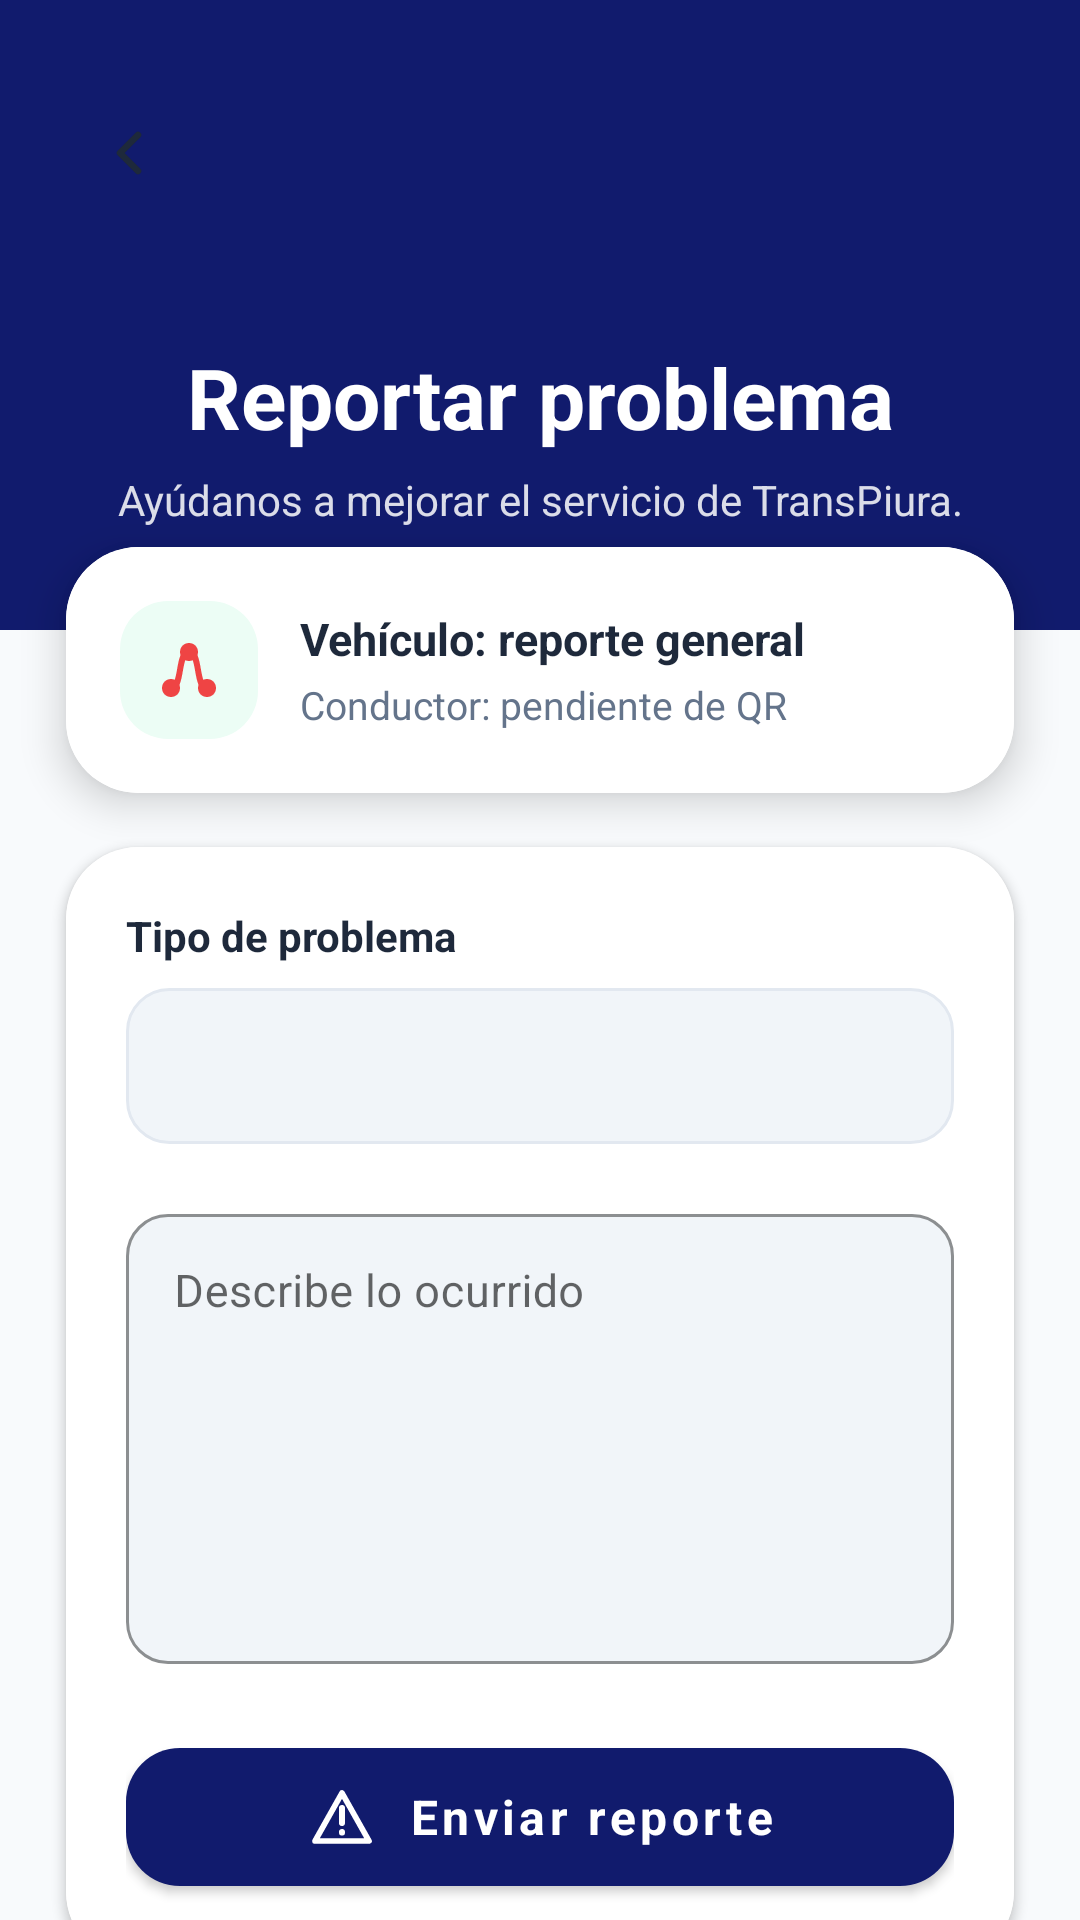

Where icons sit on this 1080w x 1920h app screen, as (x1, y1, x2, y2):
route: (120, 601, 258, 739)
Volver: (117, 132, 141, 174)
